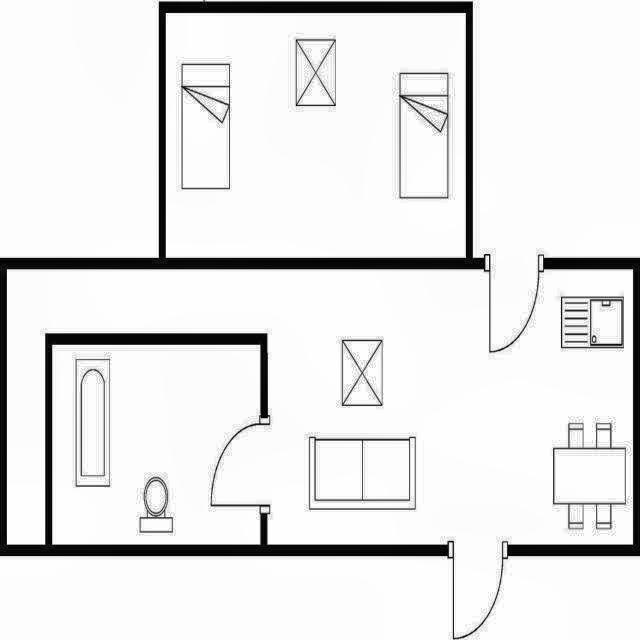room: (7, 269, 633, 545), (166, 13, 466, 258), (52, 345, 260, 545)
